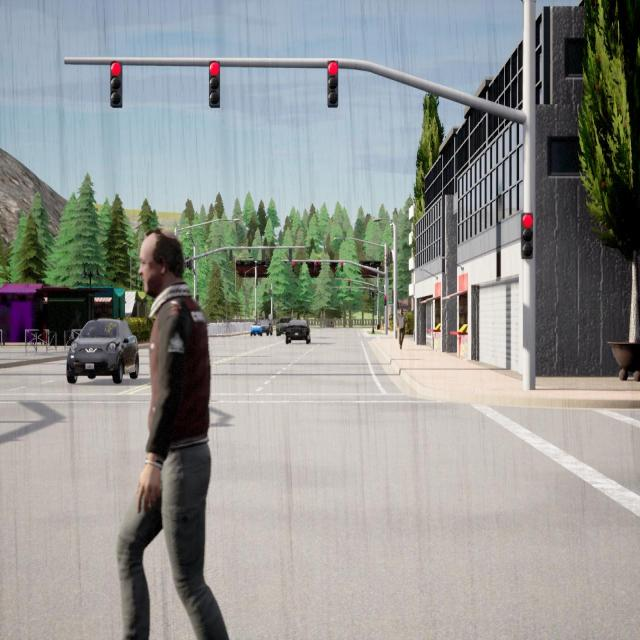Pedestrian: (117, 229, 228, 639), (398, 310, 406, 350)
Traffic_Signs: (269, 314, 272, 319)
Vehicle: (66, 319, 140, 383), (286, 320, 310, 344), (255, 319, 273, 336), (276, 317, 291, 336), (250, 324, 262, 337)
traffic_light: (110, 62, 123, 107), (520, 212, 532, 259), (208, 61, 220, 107), (327, 61, 338, 107), (289, 248, 292, 261), (262, 249, 265, 262), (384, 296, 387, 306), (314, 262, 317, 272), (386, 255, 388, 266), (392, 293, 394, 304), (388, 254, 390, 265), (390, 252, 392, 263), (341, 262, 343, 272), (292, 262, 294, 272), (230, 250, 232, 260), (186, 258, 188, 268), (348, 279, 350, 286), (189, 262, 191, 269), (256, 278, 258, 285), (363, 288, 365, 294), (196, 296, 198, 302), (337, 288, 339, 293), (270, 289, 271, 295), (349, 288, 350, 293)
